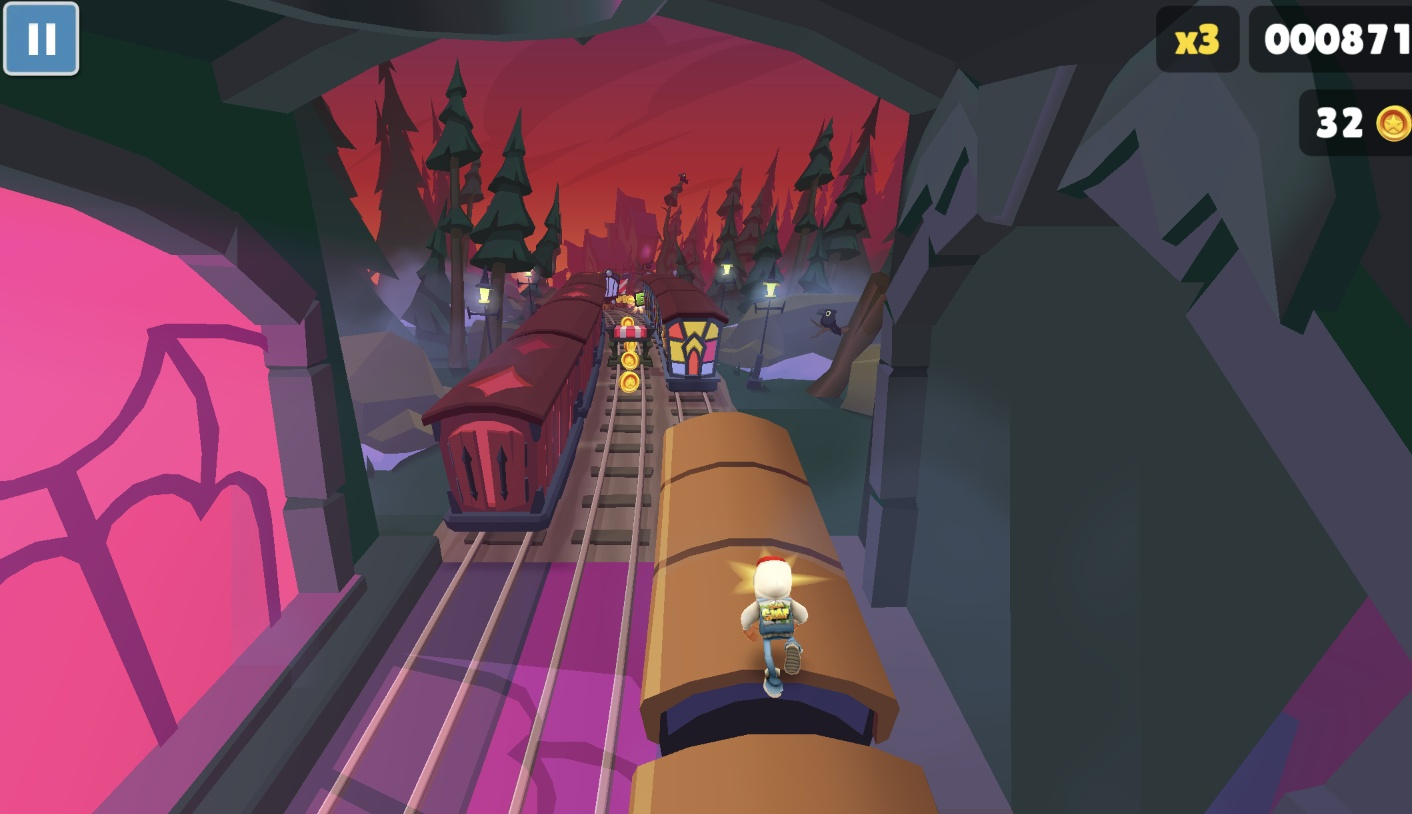ground_barrier: (608, 324, 650, 363)
overhead_barrier: (618, 272, 631, 296)
train: (632, 414, 932, 814), (419, 274, 609, 535), (640, 275, 729, 394), (603, 268, 627, 302)
